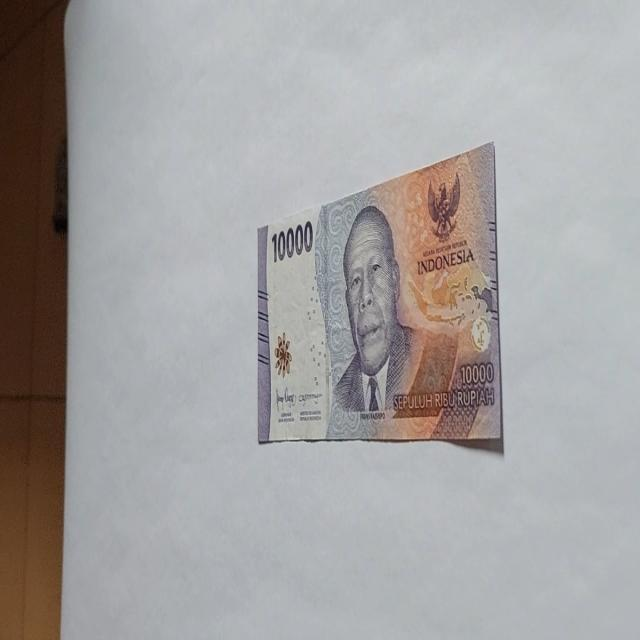sepuluh ribu rupiah: (256, 140, 504, 450), (326, 202, 416, 434)
